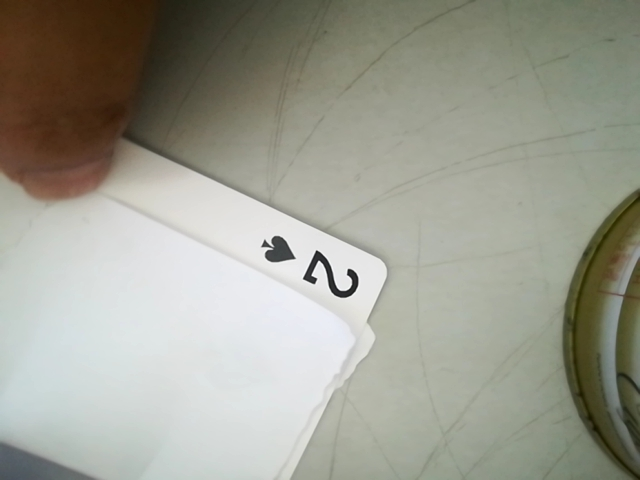ht 2: (247, 226, 372, 302)
